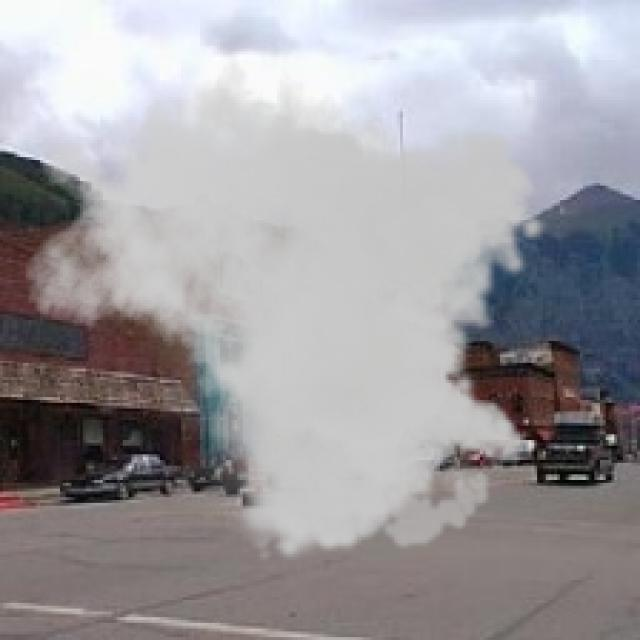smoke: (23, 37, 548, 563)
